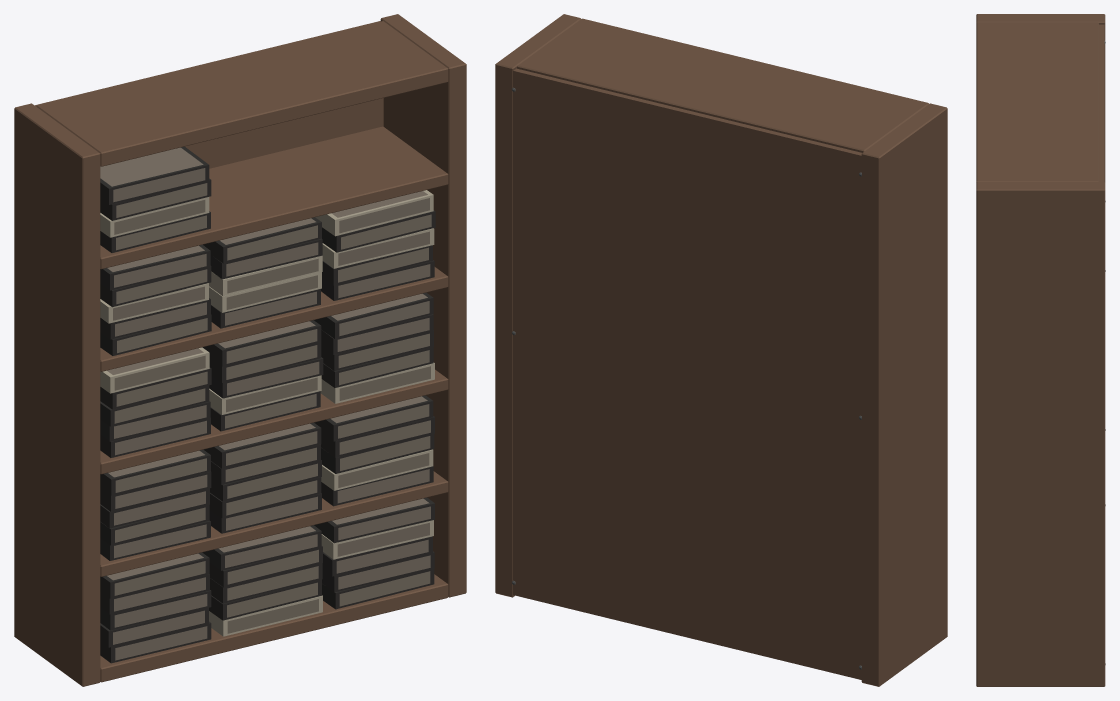
Rendered from cassette-storage-rack-a40ffb408678.glb.
3 views of the same model, side by side, from view 1: azimuth 30°, elevation 25°; view 2: azimuth 150°, elevation 25°; view 3: azimuth 270°, elevation 25° (orthographic). The views are drawn at different scales.
Visible parts, largest first — view 1: wood, cover-print, plastic-dark, plastic-light; view 2: wood; view 3: wood.
Part boxes in pixels (x1=…): wood: x1=14, y1=14, x2=466, y2=686; cover-print: x1=100, y1=147, x2=431, y2=660; plastic-dark: x1=100, y1=146, x2=435, y2=663; plastic-light: x1=100, y1=190, x2=434, y2=636; wood: x1=495, y1=14, x2=947, y2=686; wood: x1=976, y1=14, x2=1105, y2=686.
Size of the model in its own units: 0.42 by 0.553 by 0.1305.
